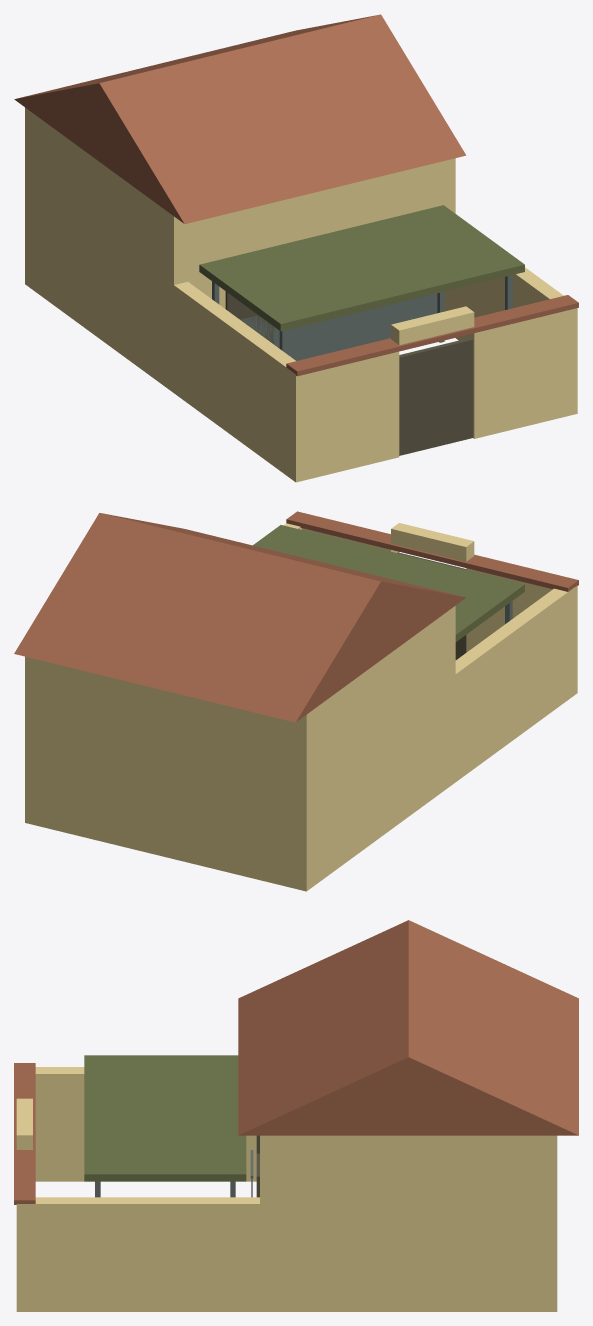
The model's file is SM_CasaPatio_v2_Parra_LOD0.fbx.
3 renders of one model, top to bottom at view 1: azimuth 30°, elevation 25°; view 2: azimuth 150°, elevation 25°; view 3: azimuth 270°, elevation 25°, orthographic.
Visible parts, largest first — view 1: SM_pueblo_valenciano_v17_LOD0; view 2: SM_pueblo_valenciano_v17_LOD0; view 3: SM_pueblo_valenciano_v17_LOD0.
Part boxes in pixels (bbox=[...]): SM_pueblo_valenciano_v17_LOD0: bbox=[14, 14, 578, 482]; SM_pueblo_valenciano_v17_LOD0: bbox=[14, 511, 578, 891]; SM_pueblo_valenciano_v17_LOD0: bbox=[14, 920, 578, 1311].
Size of the model in its own units: 6 by 5.2 by 10.45.
